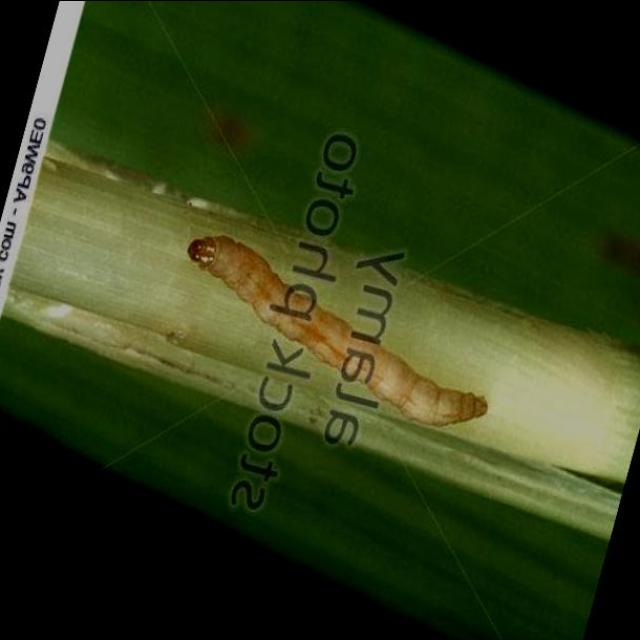stem borer: (189, 235, 487, 424)
